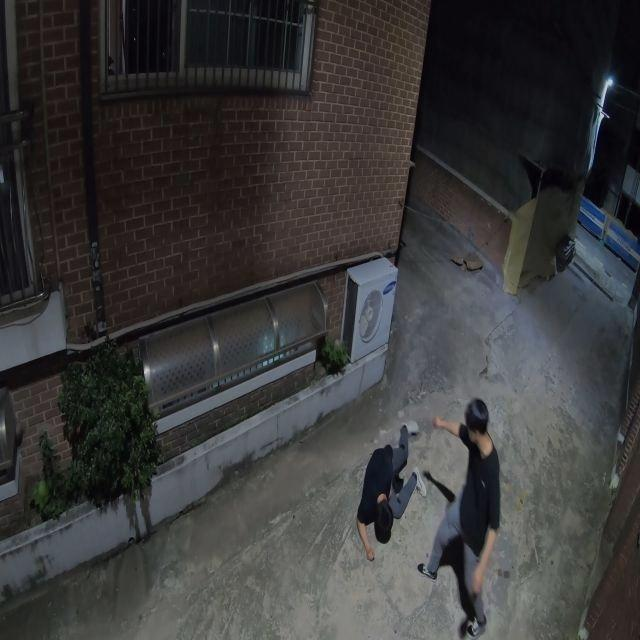fight: (355, 397, 502, 639)
